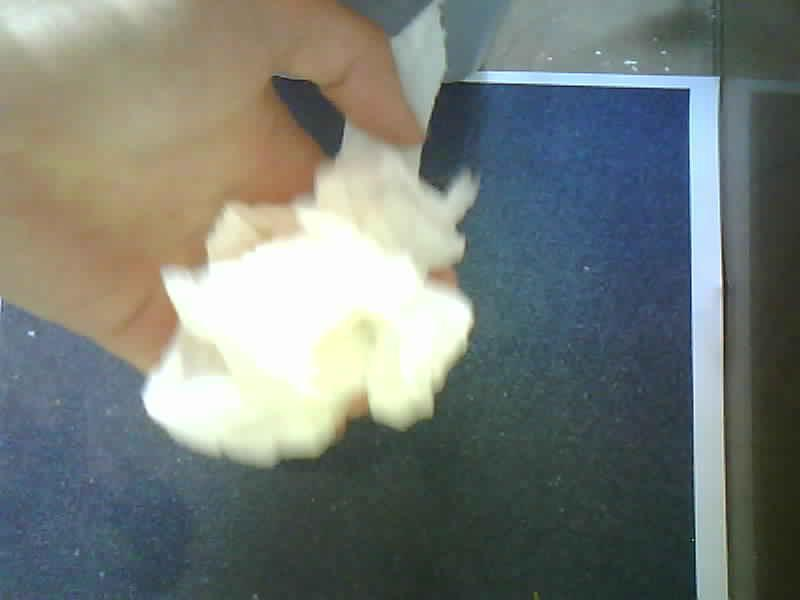paper: (144, 5, 482, 466)
